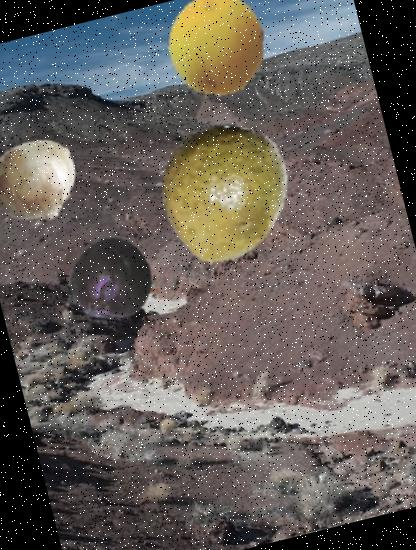Guava: (138, 111, 310, 282)
Onion: (0, 126, 90, 236)
Passion: (60, 224, 166, 332)
Peach: (154, 0, 279, 109)
